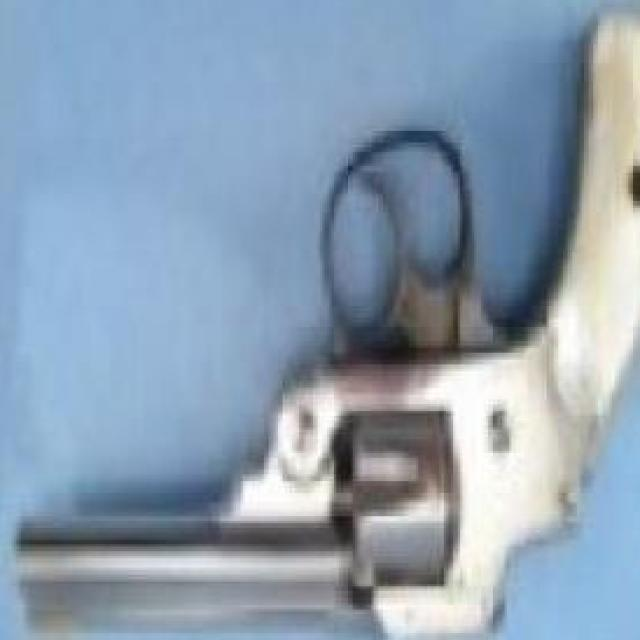pistol: (25, 10, 640, 640)
